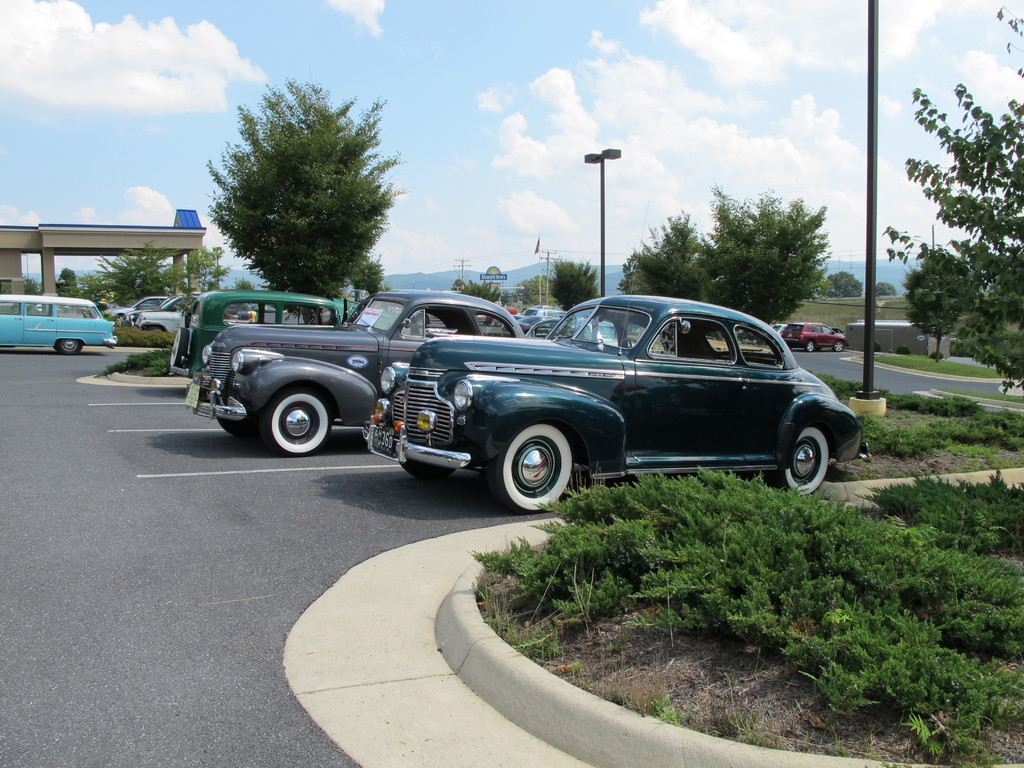Car: (0, 288, 847, 522)
